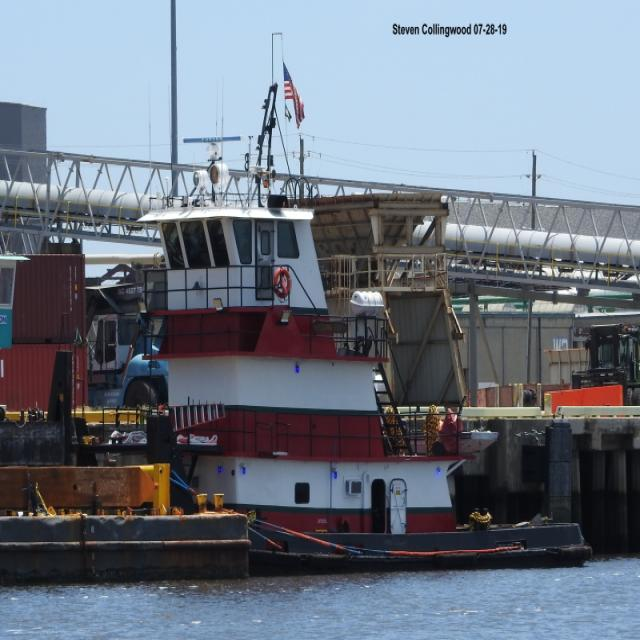tugboat: (44, 60, 595, 581)
